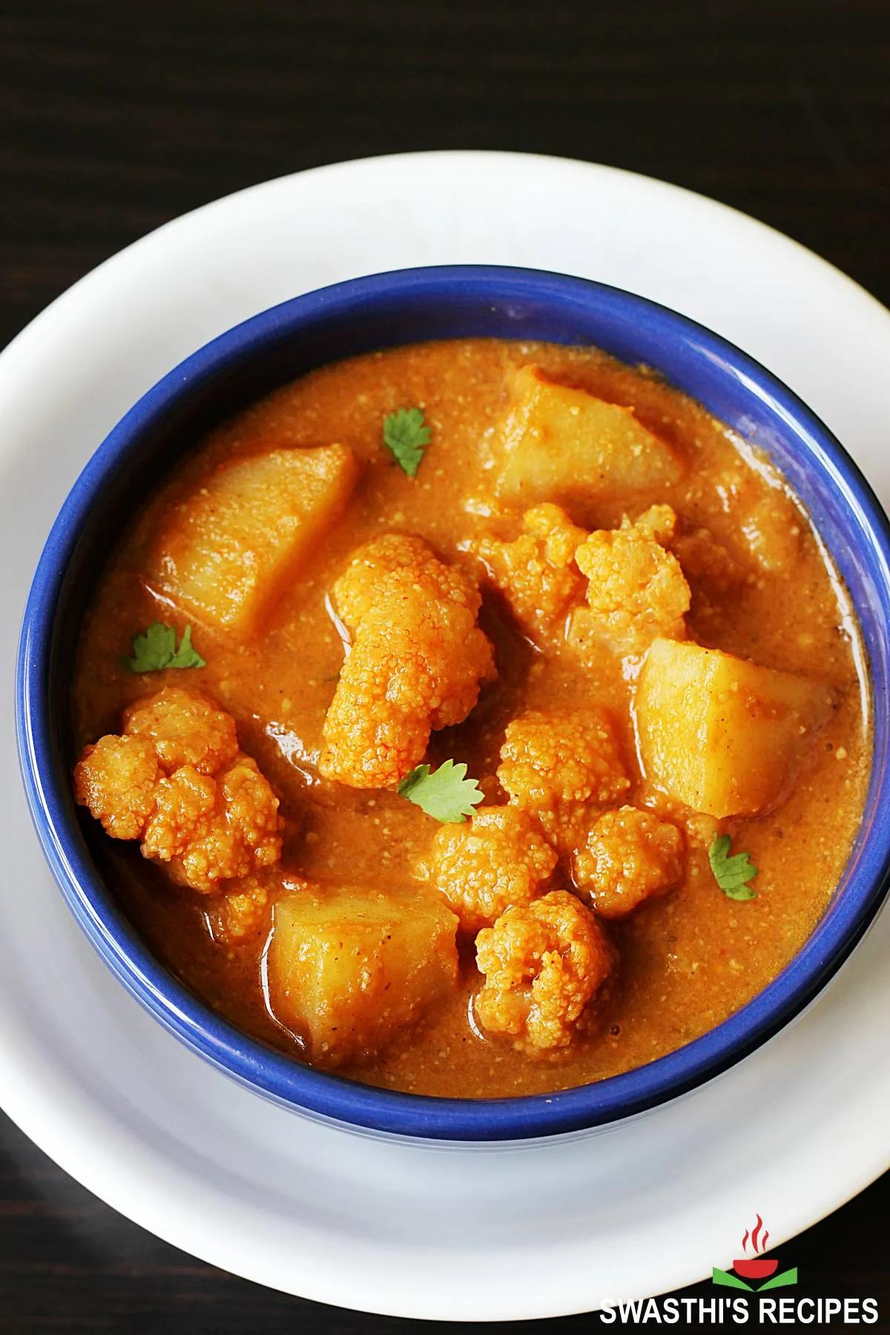aloo gobhi: (90, 372, 876, 1081)
